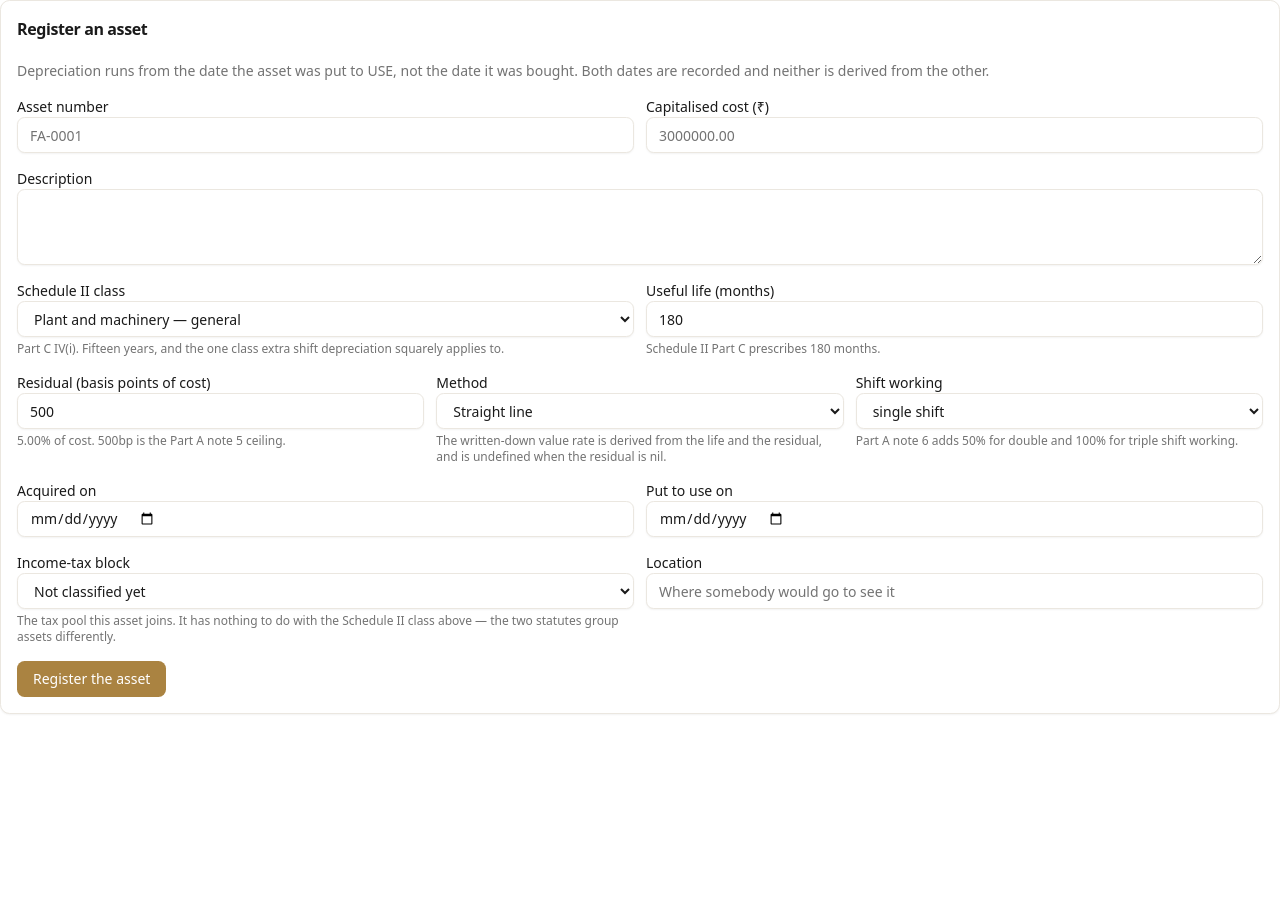
Scenario: 🔴 Schedule II Part C — a different life has to be justified › a life off the schedule with no justification is refused in the engine's own words
The image size is (1280, 900).
Type "FA-1" into the field labelled "Asset number" at (326, 135), box x1=17 y1=117 x2=634 y2=153
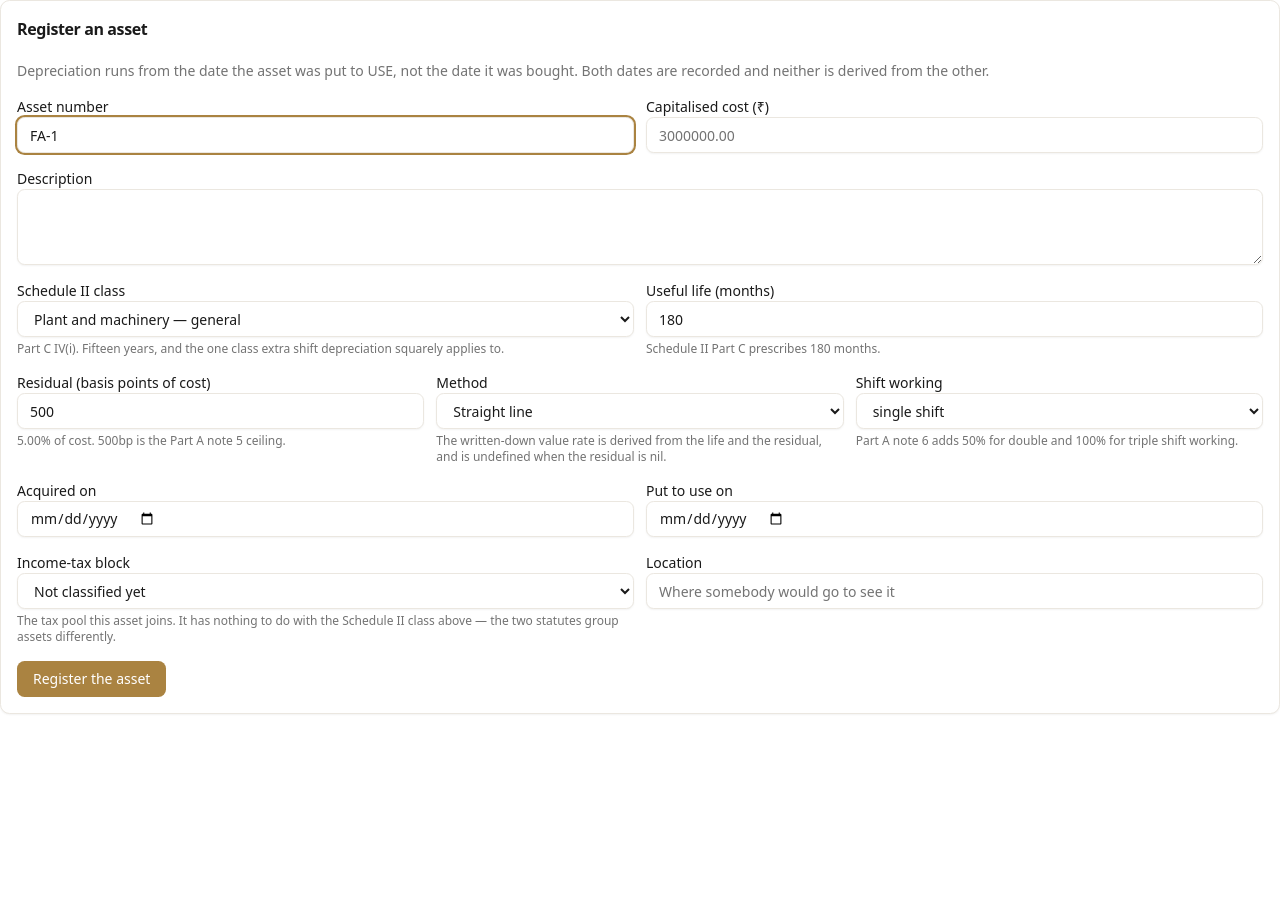
Type "A lathe" into the text box labelled "Description" at (640, 227), box x1=17 y1=189 x2=1263 y2=265
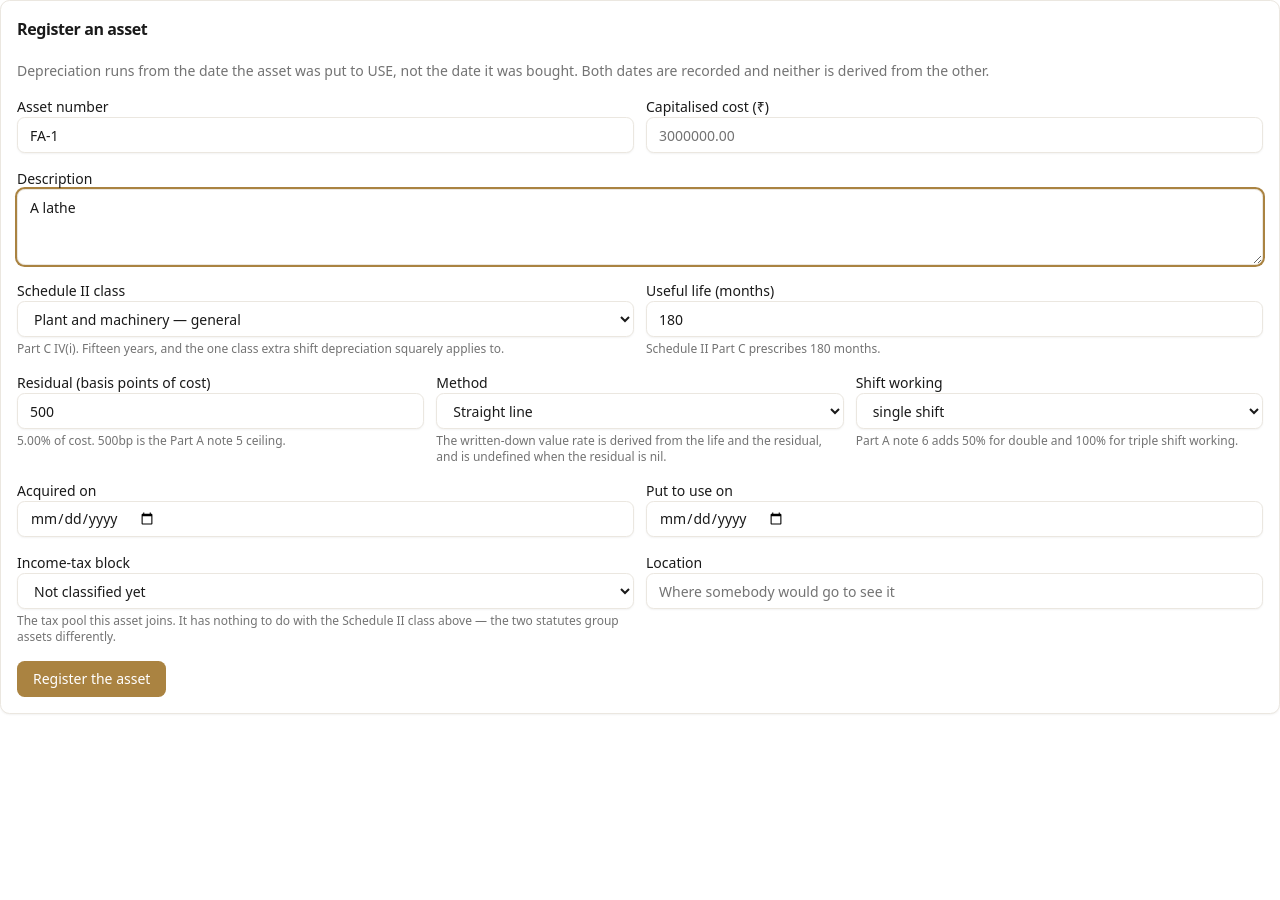
Type "1000000" into the field labelled "Capitalised cost (₹)" at (954, 135), box x1=646 y1=117 x2=1263 y2=153
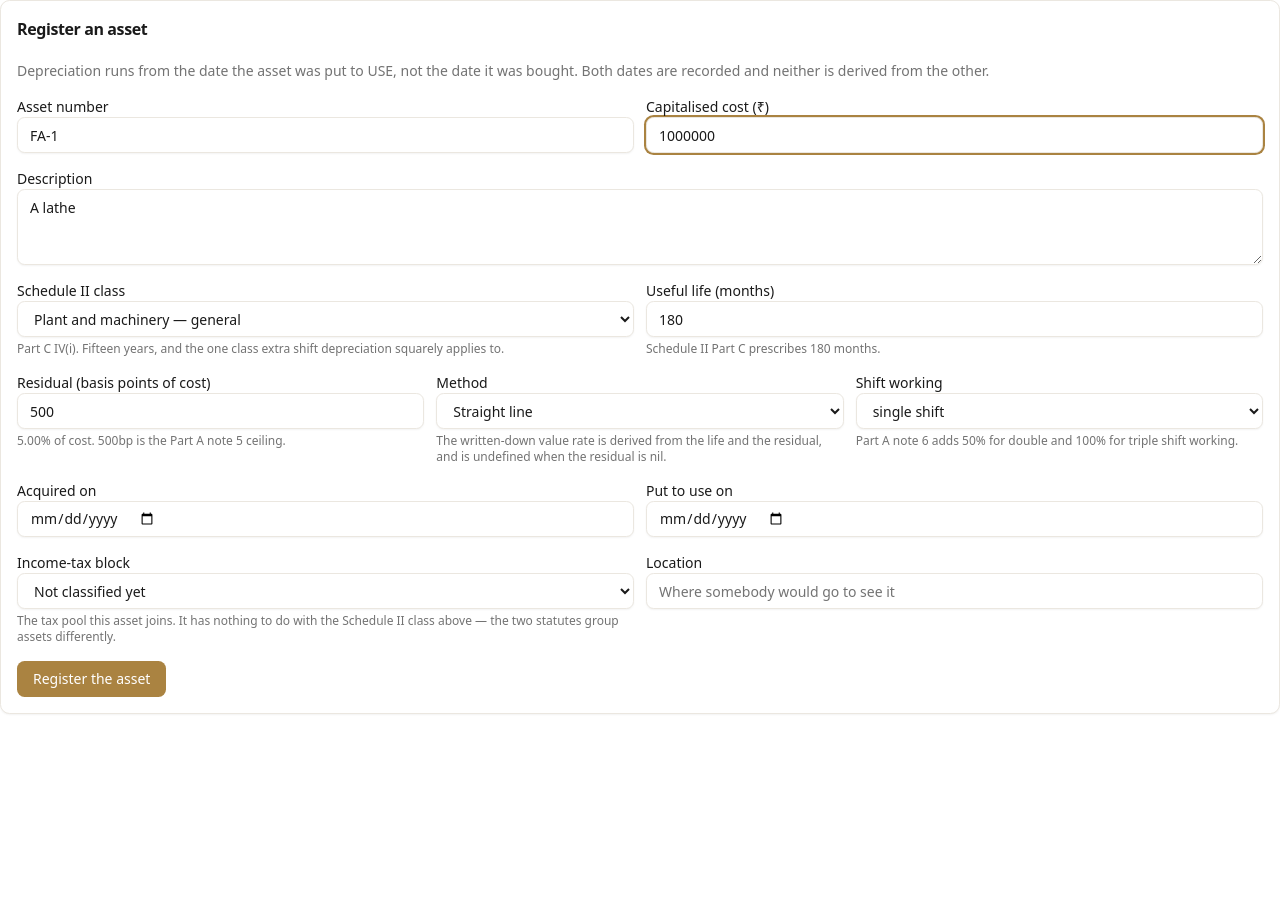
Replace the text in the field labelled "Useful life (months)" with "36" at (954, 319), box x1=646 y1=301 x2=1263 y2=337
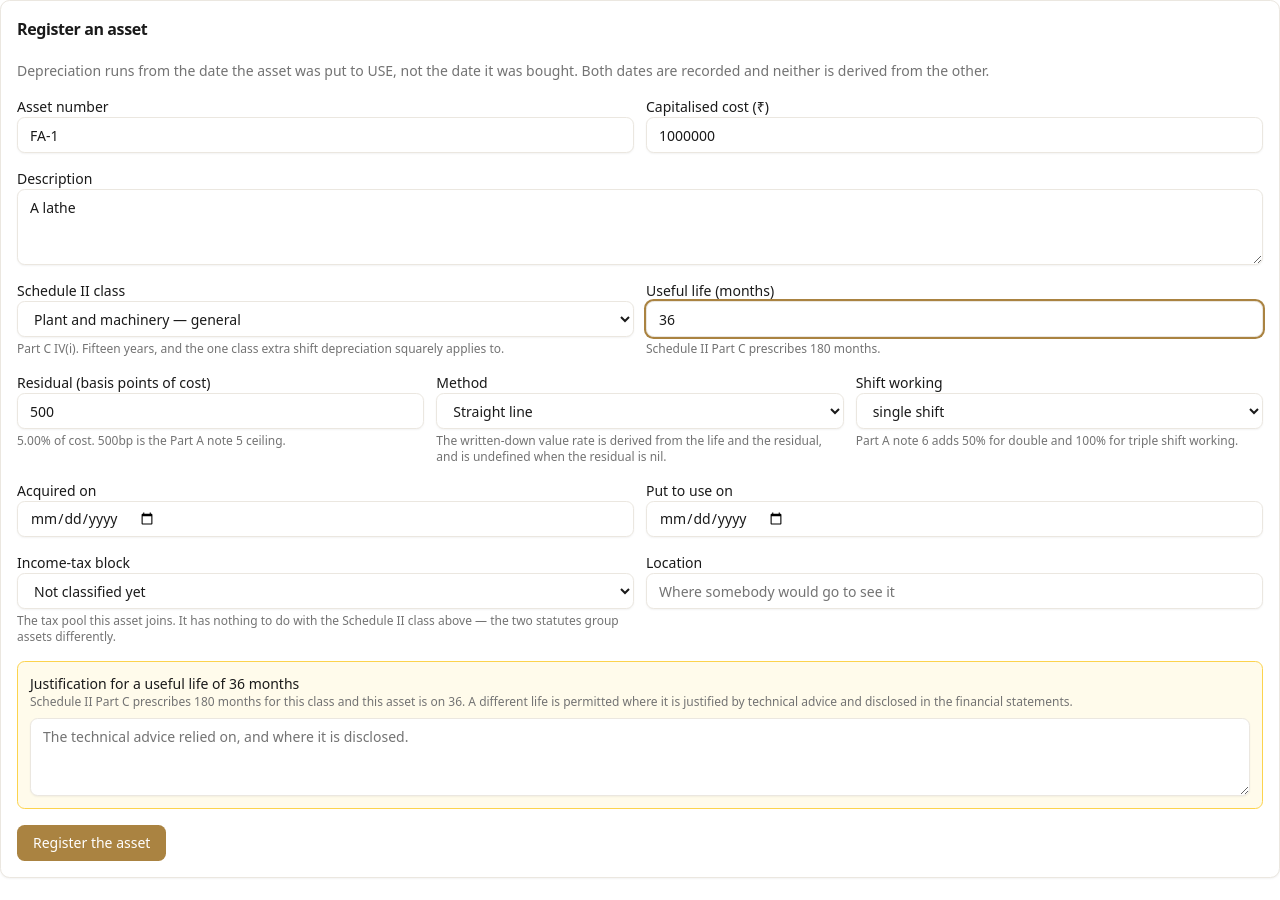
Click the button "Register the asset" at (92, 843), box x1=17 y1=825 x2=166 y2=861
(page scrolled)
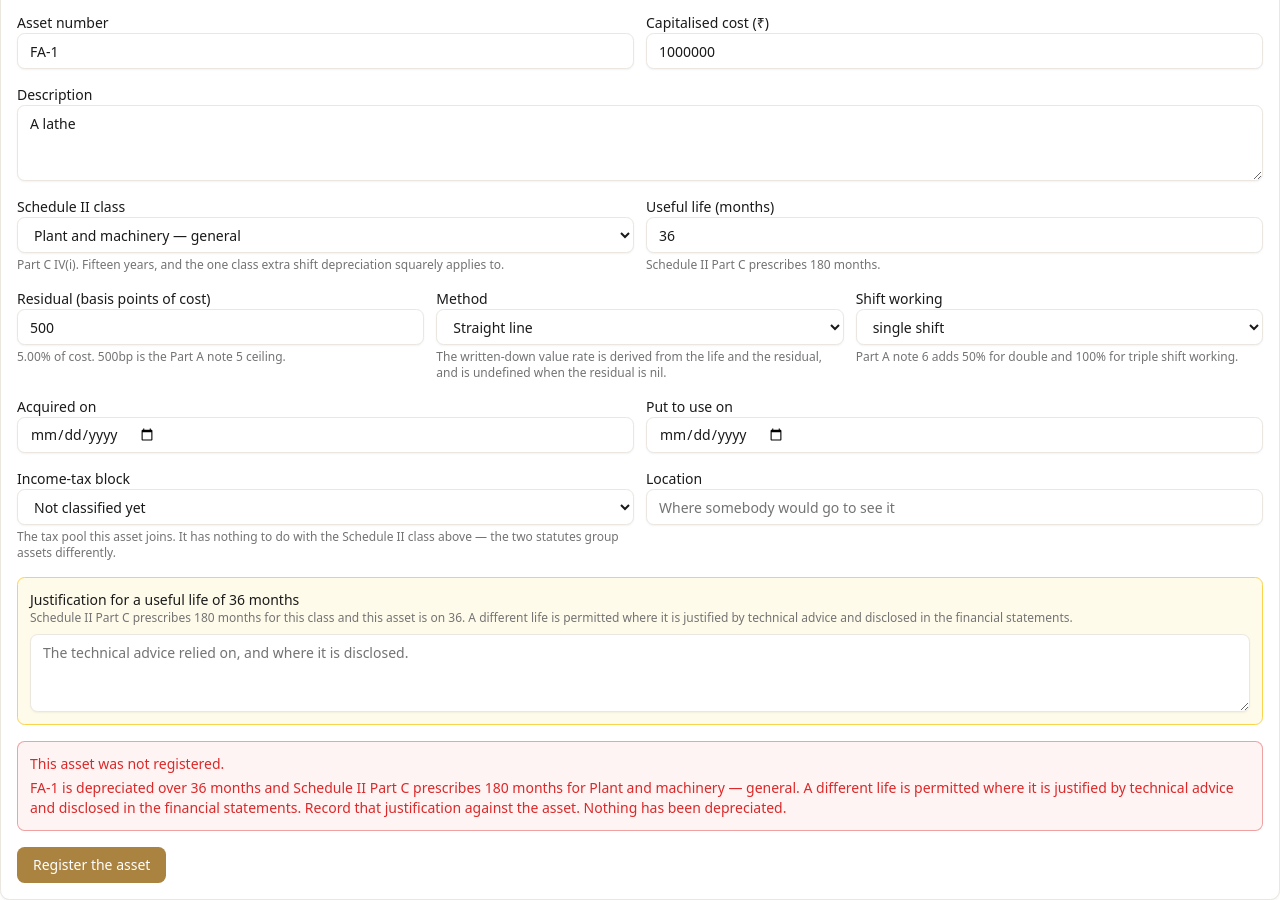
Expected: the message shows "justif", x1=30 y1=778 x2=1234 y2=817
